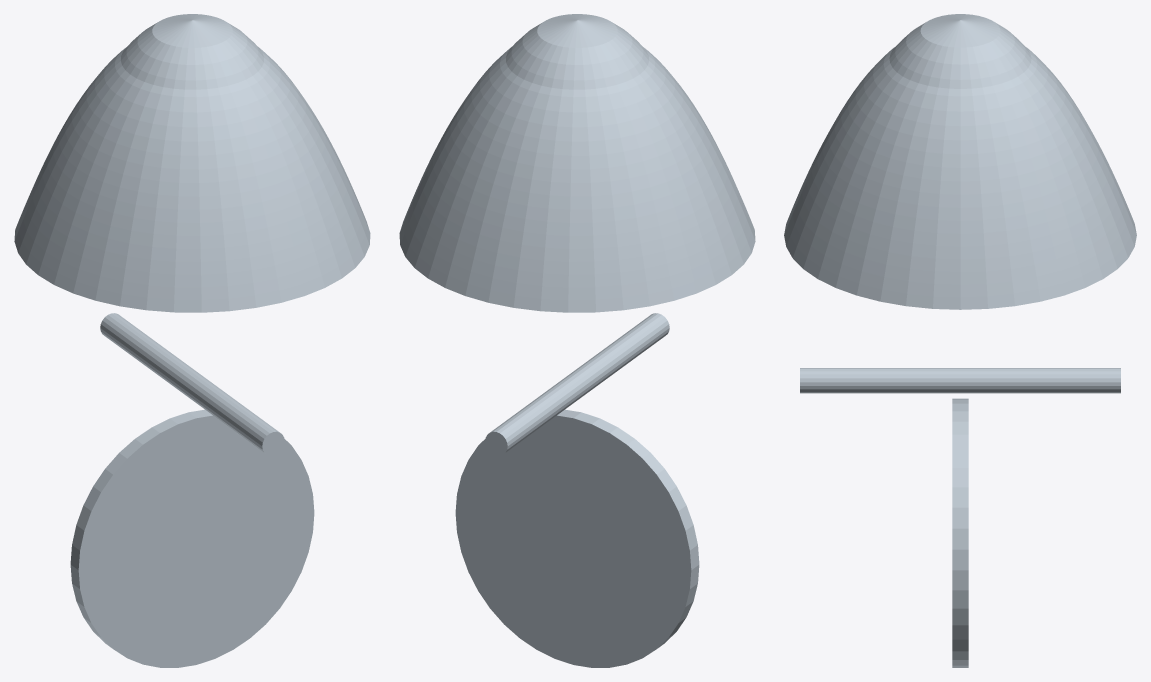
Rendered from 1789180025472_Water_Goblet_glb.glb.
3 views of the same model, side by side, from view 1: azimuth 30°, elevation 25°; view 2: azimuth 150°, elevation 25°; view 3: azimuth 270°, elevation 25° (orthographic).
Visible parts, largest first — view 1: world; view 2: world; view 3: world.
Boxes of the visible parts, bbox=[...] form: world: bbox=[14, 14, 370, 667]; world: bbox=[399, 14, 755, 667]; world: bbox=[784, 14, 1136, 667].
Bounding box in the file's own units: 0.11 × 0.2185 × 0.11.
